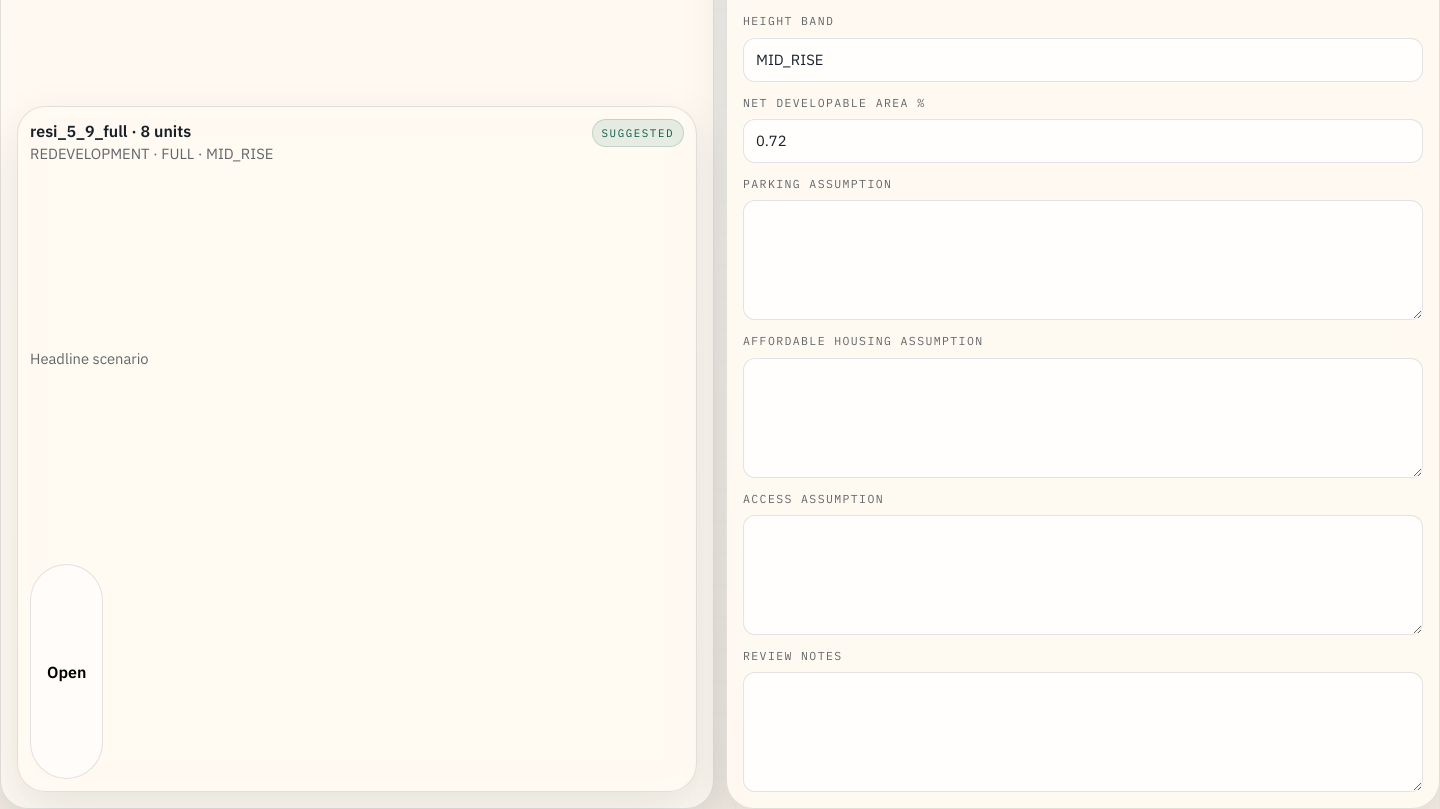
it: SiteScenarioEditor › reports an unavailable scenario detail when opening fails
This screenshot has width=1440, height=809.
(page scrolled)
Step 1. Click the button "Open" → coordinates (67, 672), box 30,564 -> 103,779
(page scrolled)
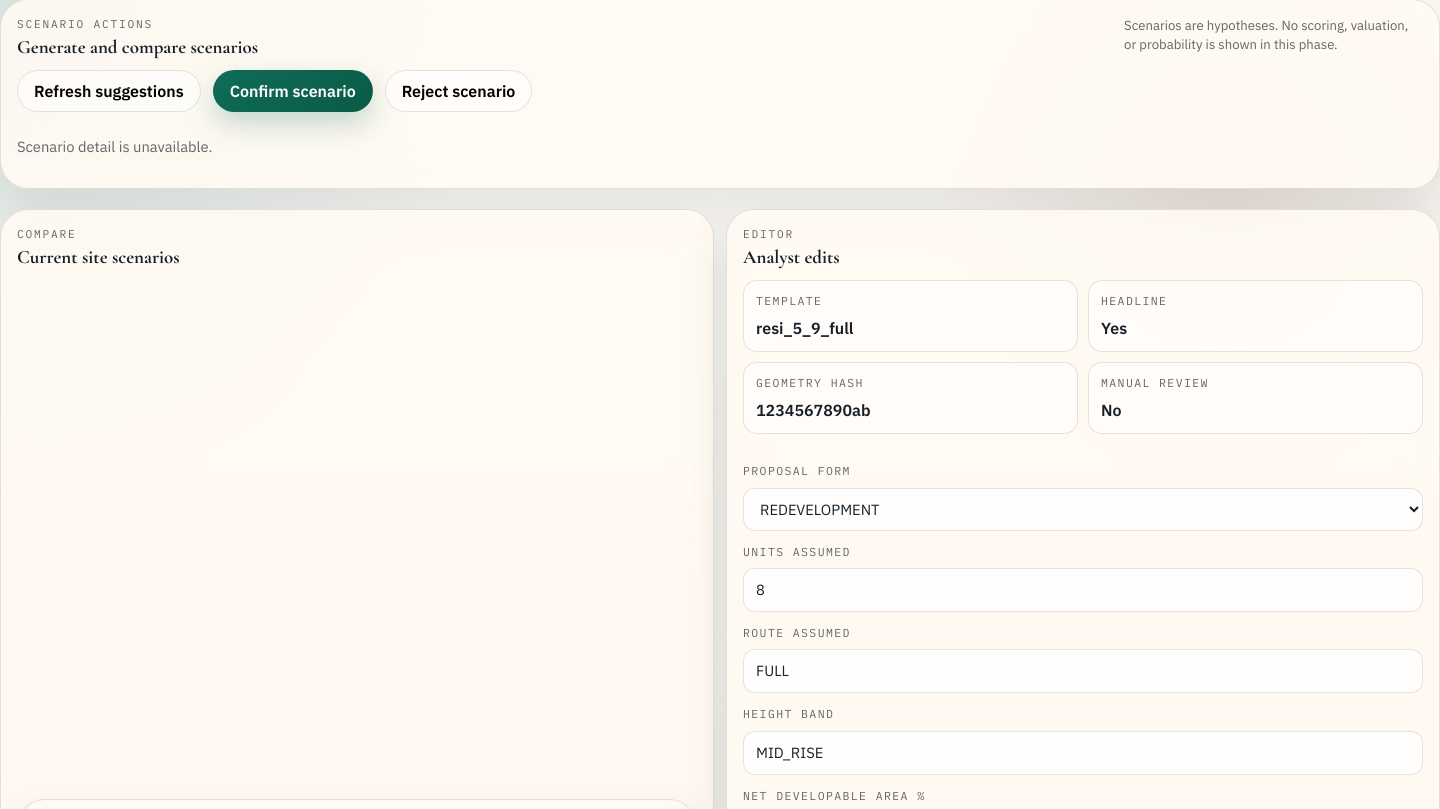
Now the text "Scenario detail is unavailable." is shown, box 17,137 -> 212,156
